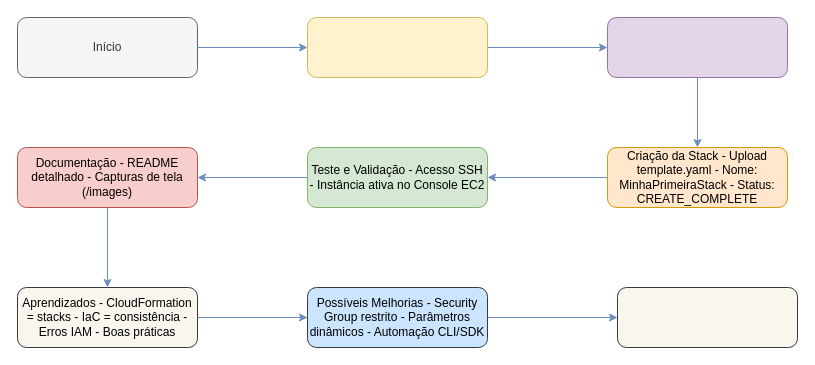
Image size: 815x365. Some labels were removed from this diagram. The centre of each missing label's shape, as x and y in pixels:
Conclusão - Aplicação prática de IaC - Base para futuros projetos: point (707, 317)
Criação do Template YAML - EC2 t2.micro - Amazon Linux 2 - Output IP público: point (697, 47)
Preparação - Conta AWS Free Tier - Par de chaves SSH - Material da DIO: point (397, 47)
